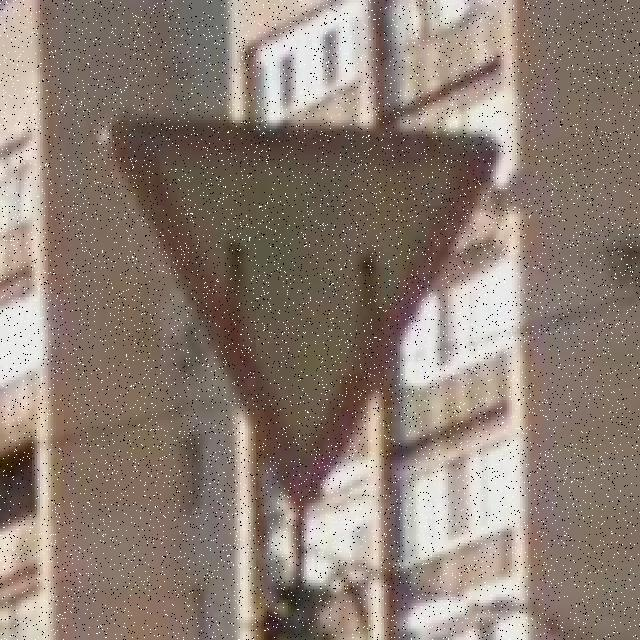Ustap pierwszenstwa: (96, 109, 498, 508)
